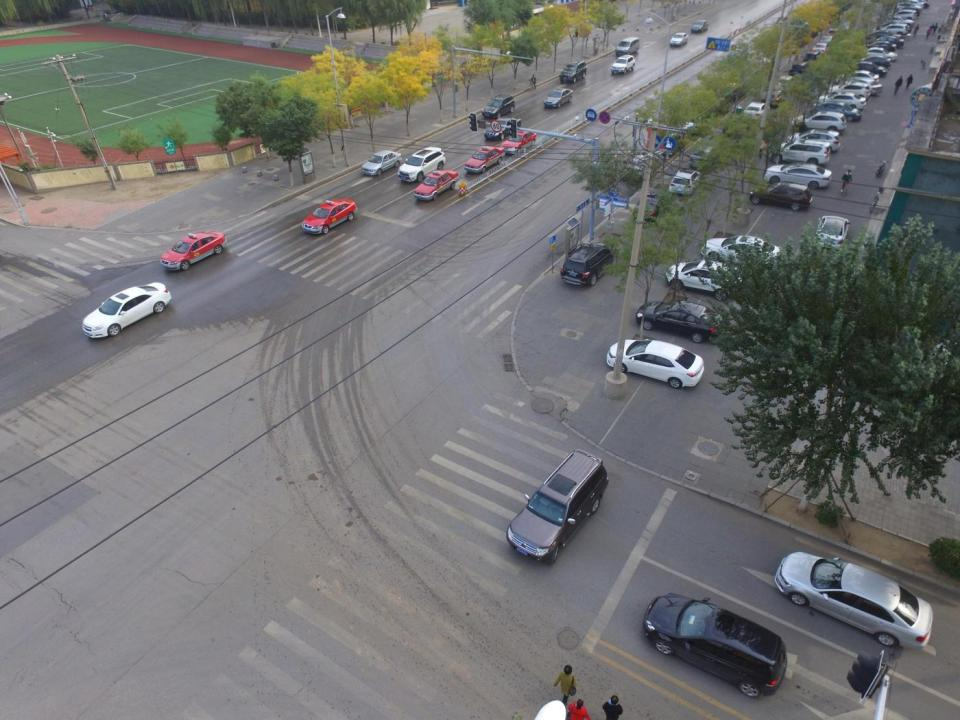car: (774, 550, 934, 652), (645, 591, 791, 700), (81, 283, 173, 338), (607, 339, 705, 388), (634, 300, 723, 344), (703, 235, 781, 277), (667, 260, 748, 300), (158, 228, 226, 270), (562, 243, 617, 287), (300, 197, 360, 236), (748, 181, 812, 212), (398, 146, 445, 184), (414, 168, 459, 206), (762, 164, 833, 188), (770, 138, 830, 164), (814, 216, 850, 253), (632, 190, 667, 227), (360, 148, 403, 178), (464, 144, 506, 173), (810, 103, 862, 125), (812, 93, 864, 115), (816, 81, 868, 103), (829, 77, 881, 99), (826, 69, 878, 91), (842, 60, 886, 83), (799, 112, 849, 132), (790, 130, 840, 150), (847, 56, 891, 78), (499, 130, 536, 156), (482, 116, 522, 140), (689, 147, 722, 174), (667, 169, 702, 194), (481, 95, 516, 119), (545, 87, 575, 109), (742, 100, 770, 123), (558, 61, 587, 82), (610, 56, 636, 74), (765, 88, 784, 109), (670, 34, 689, 48), (692, 19, 710, 32)
van: (505, 448, 610, 565)
